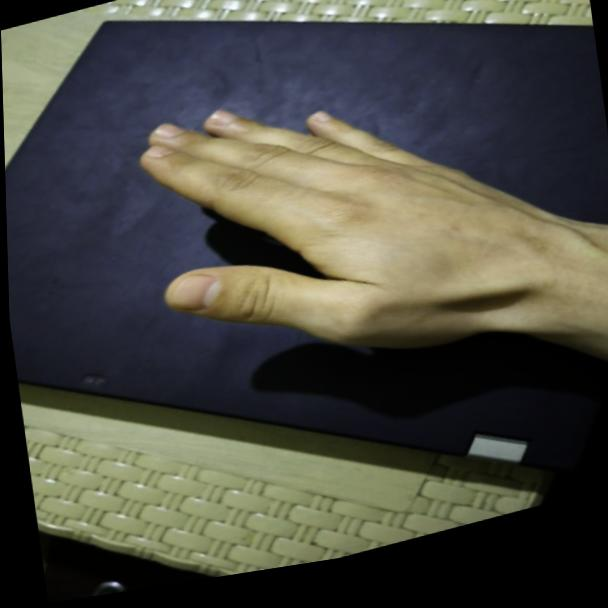five: (122, 55, 494, 409)
